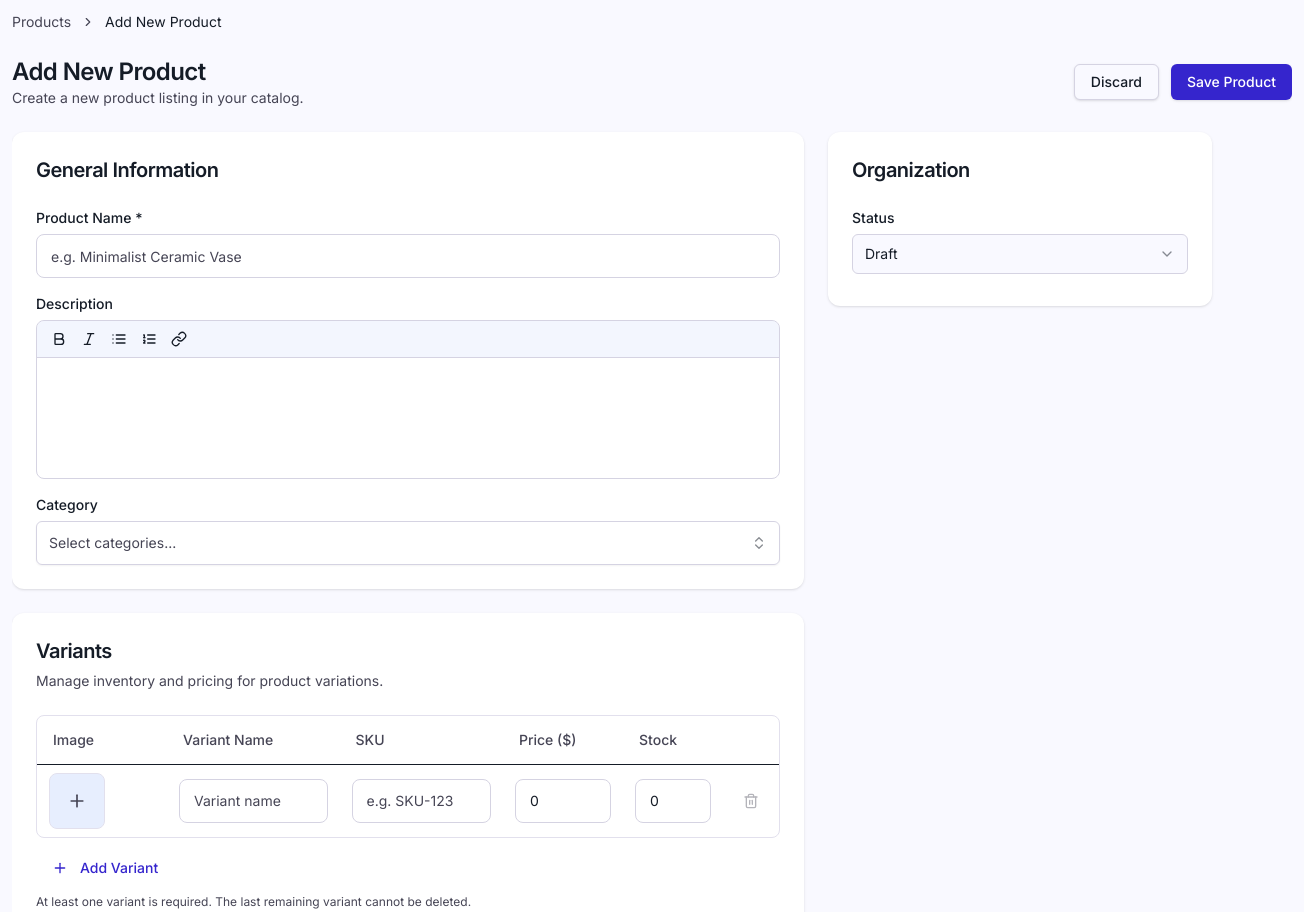
Test: CreateProductPage › displays error banner when creation fails
Type "New Test Product" into the field labelled "Product Name *" at (408, 256), box [36,234,780,278]
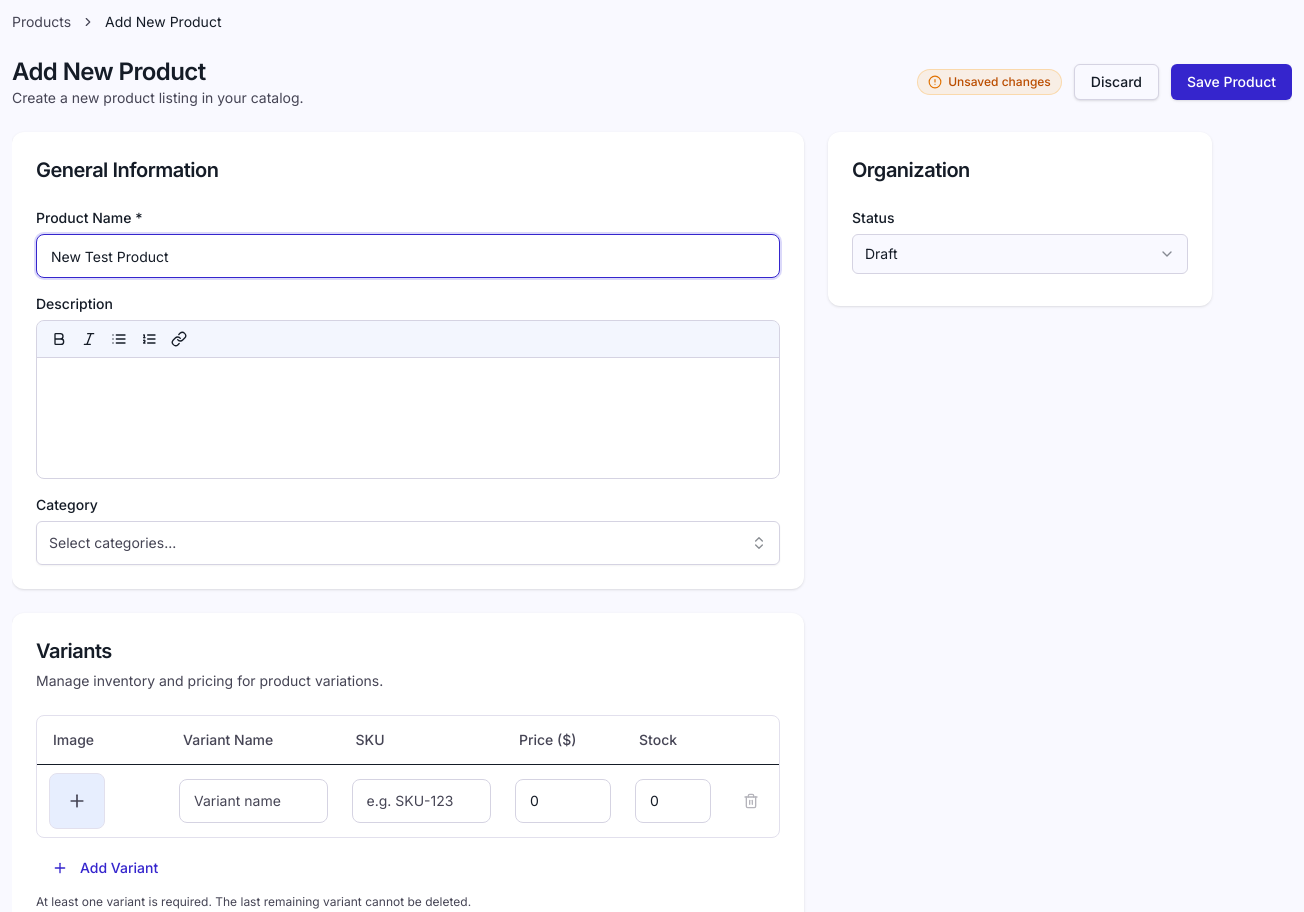
Type "EXISTS-SKU" into the field with placeholder "e.g. SKU-123" at (421, 800), box [352,778,491,822]
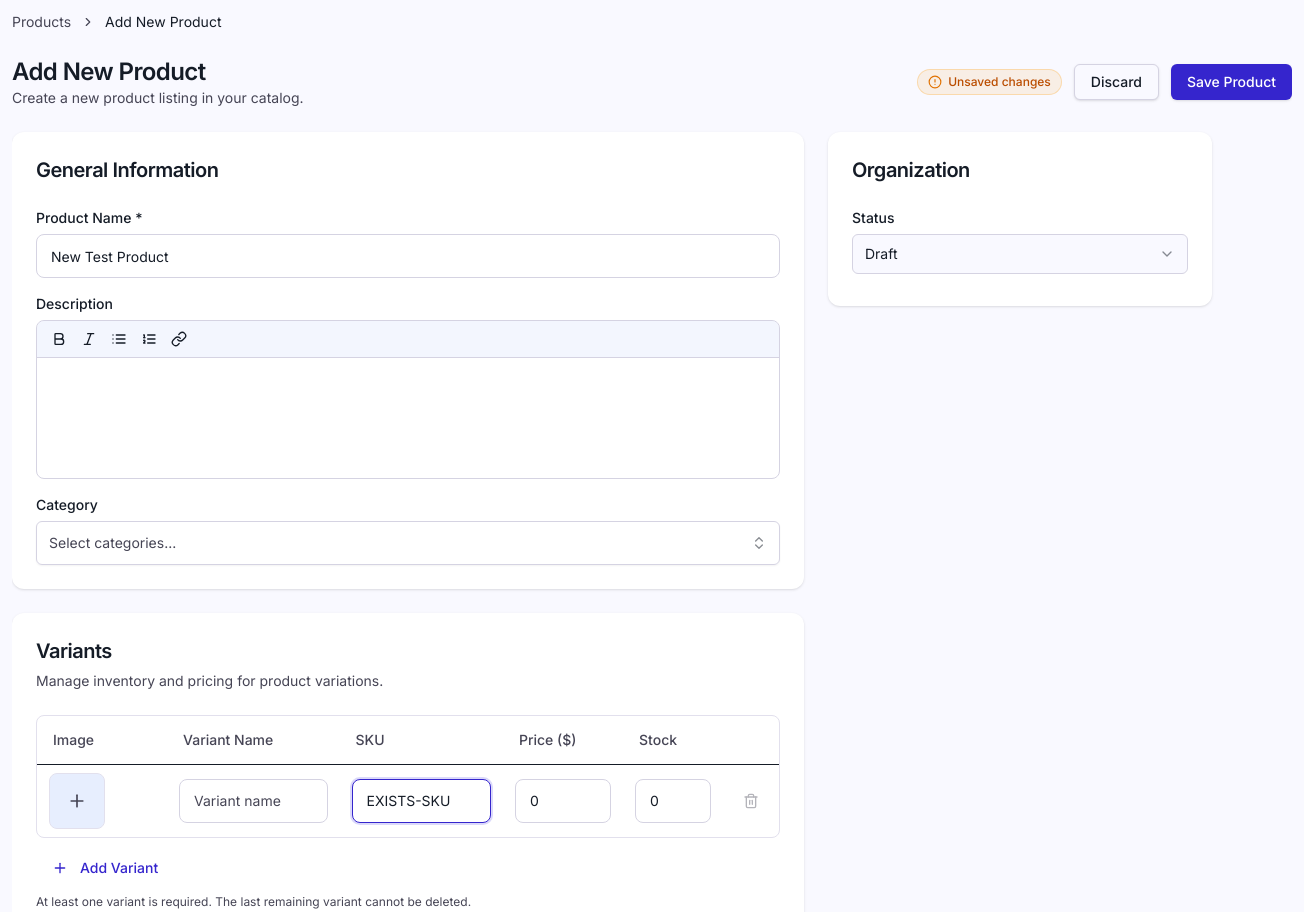
Click the button "Save Product" at (1232, 82), box [1171,64,1292,100]
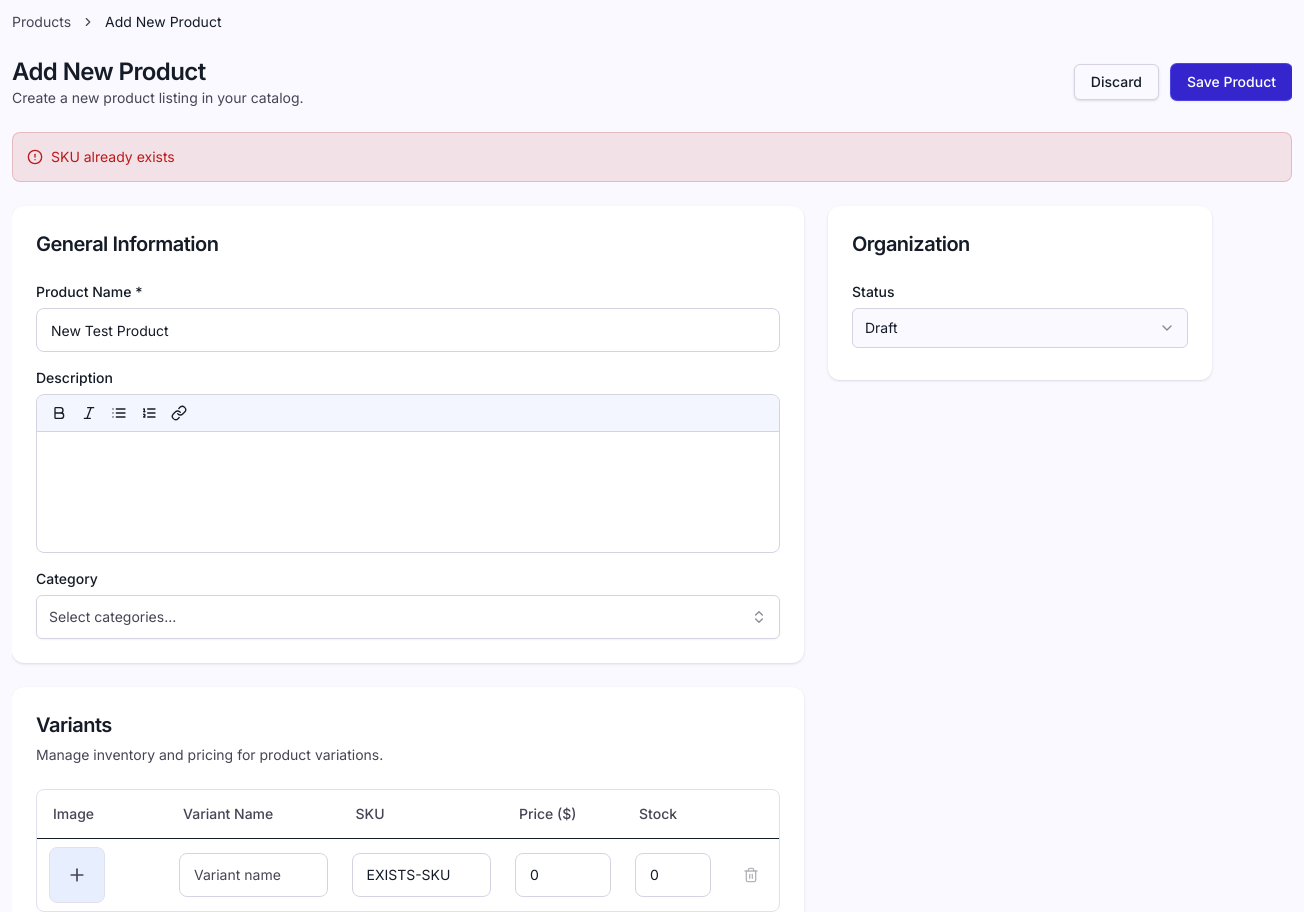
expect the text "SKU already exists" is shown: met, box [51,147,175,167]
